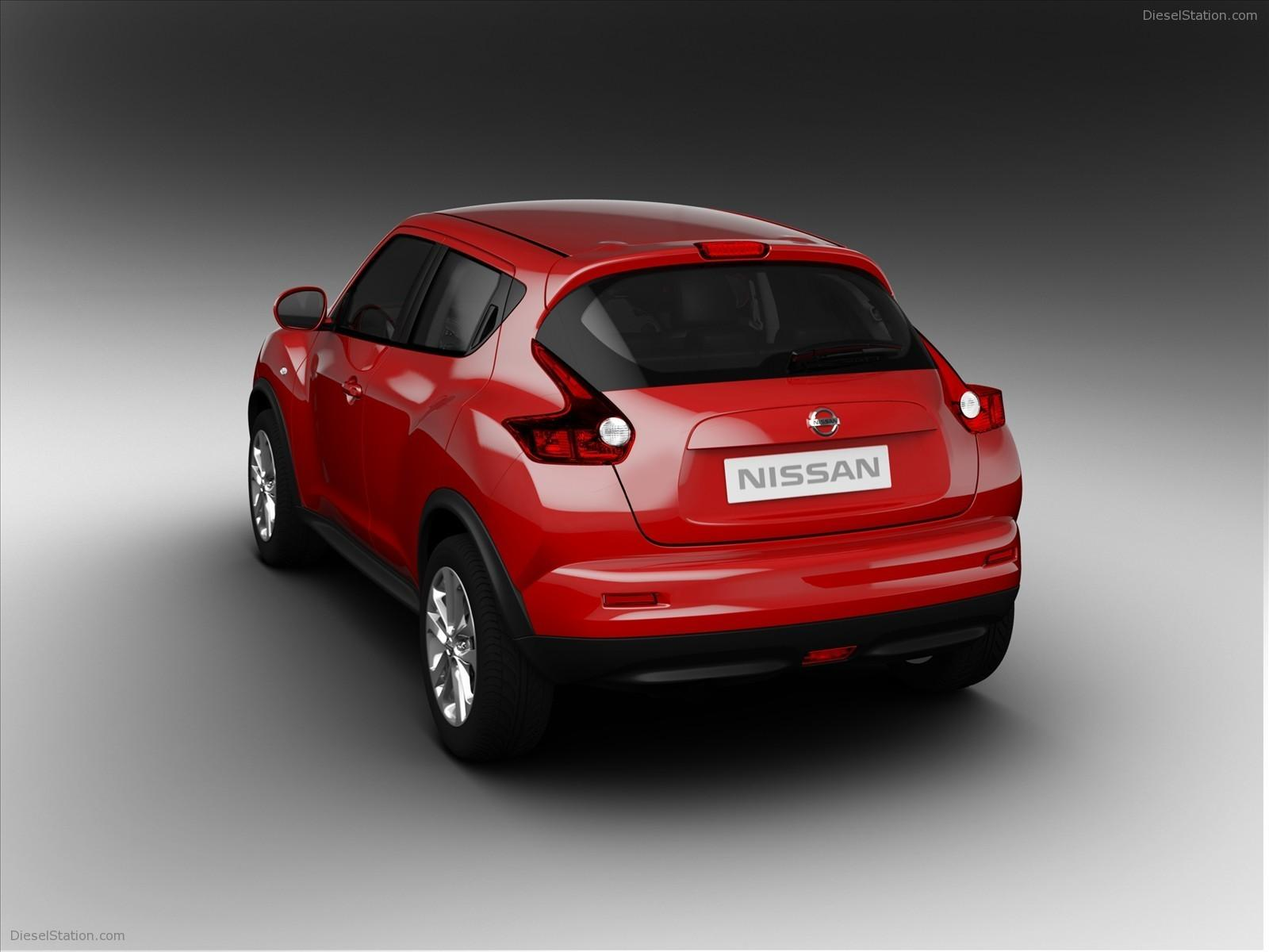Hatchback: (246, 196, 1025, 764)
